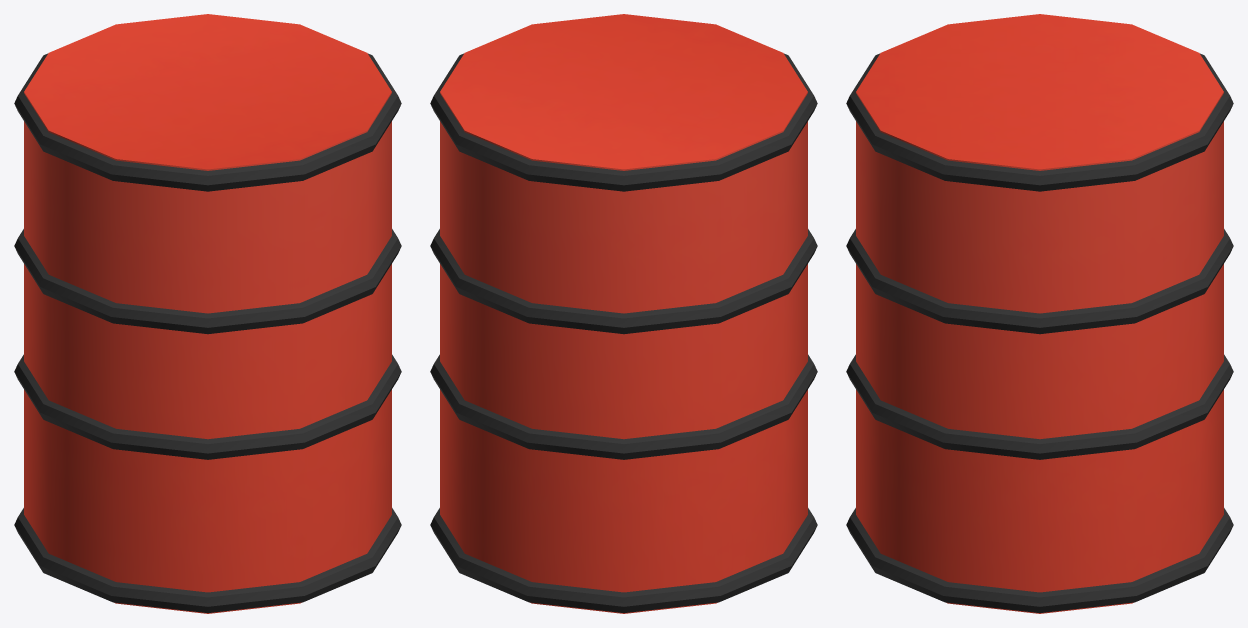
Rendered from oil.fbx.
The picture shows the model from 3 angles, left to right: view 1: azimuth 30°, elevation 25°; view 2: azimuth 150°, elevation 25°; view 3: azimuth 270°, elevation 25°; orthographic projection.
Visible parts, largest first — view 1: Cylinder; view 2: Cylinder; view 3: Cylinder.
Part boxes in pixels (x1,y1,x2,y2): Cylinder: (14, 14, 401, 613); Cylinder: (430, 14, 817, 613); Cylinder: (846, 14, 1233, 613).
Size of the model in its own units: 158 by 200 by 158.
